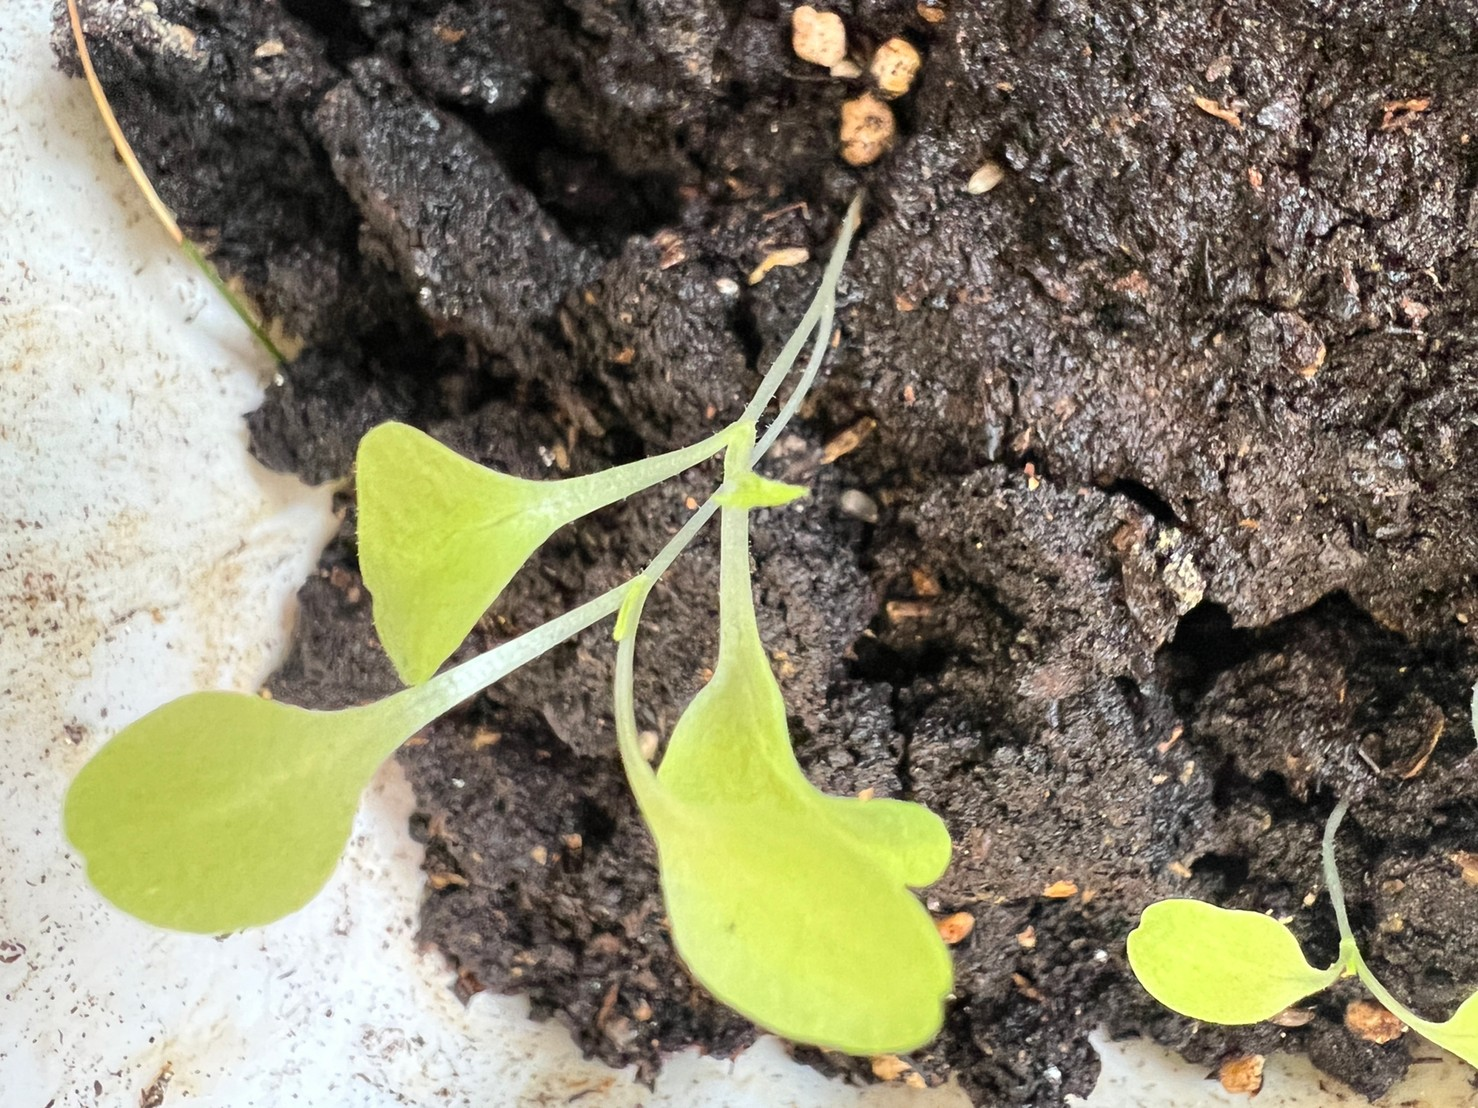week2: (1, 200, 985, 1064)
